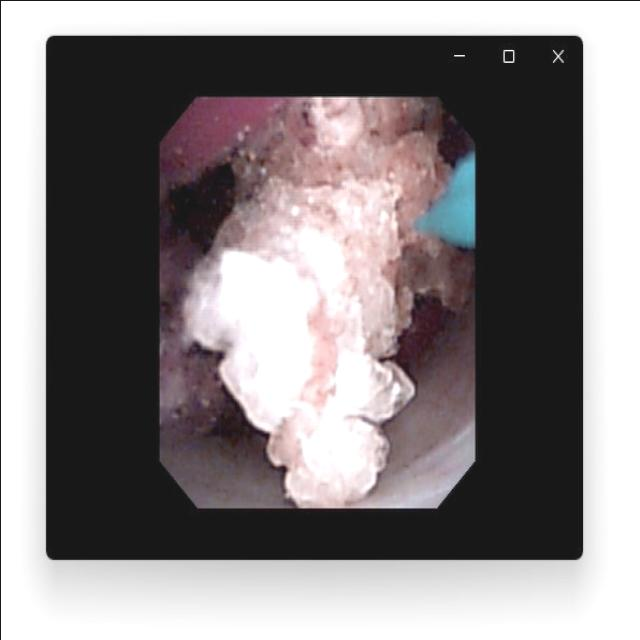fiber: (422, 161, 469, 238)
stone: (184, 100, 470, 501)
